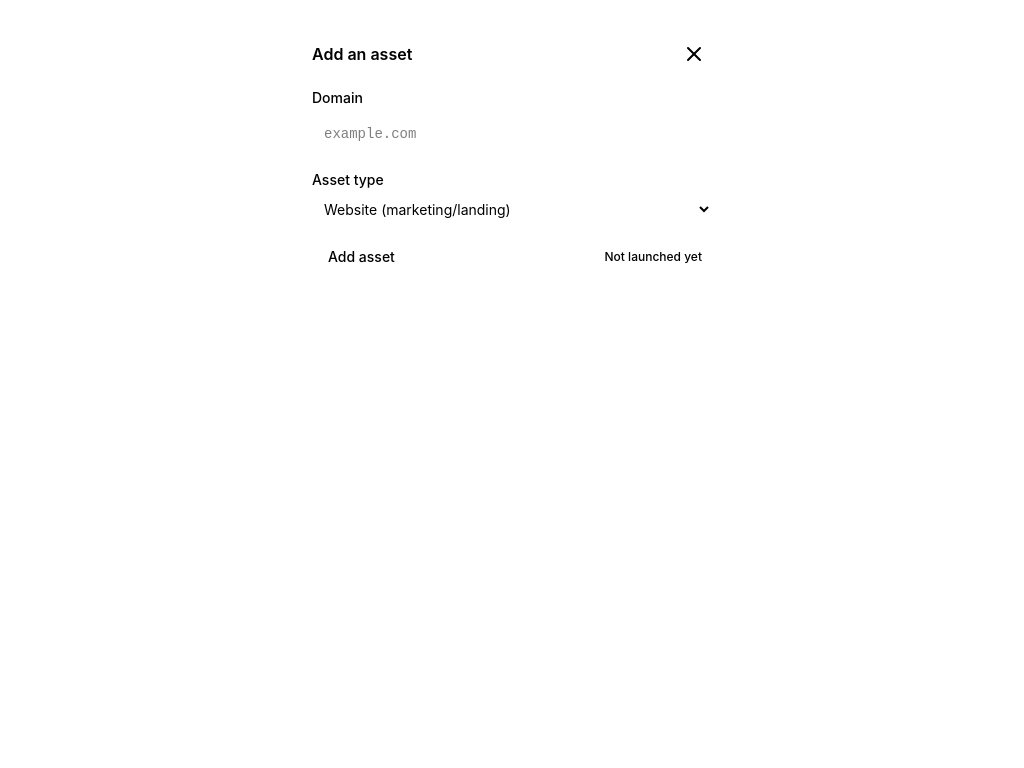
one question: the domain › keeps an Add pressed before the source catalog loads, and sends it once it has
This screenshot has width=1024, height=768.
Type "shop.example.com" into the field labelled "Domain" at (512, 134), box [312,114,712,154]
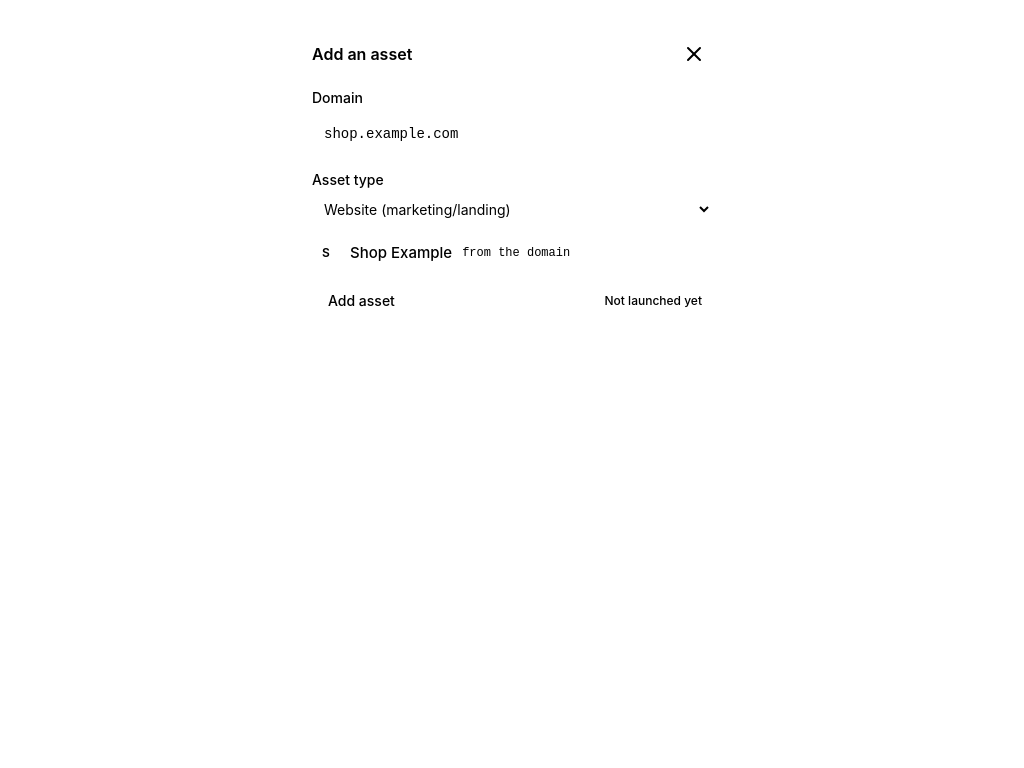
Click the button "Add asset" at (361, 301), box [312,283,411,319]
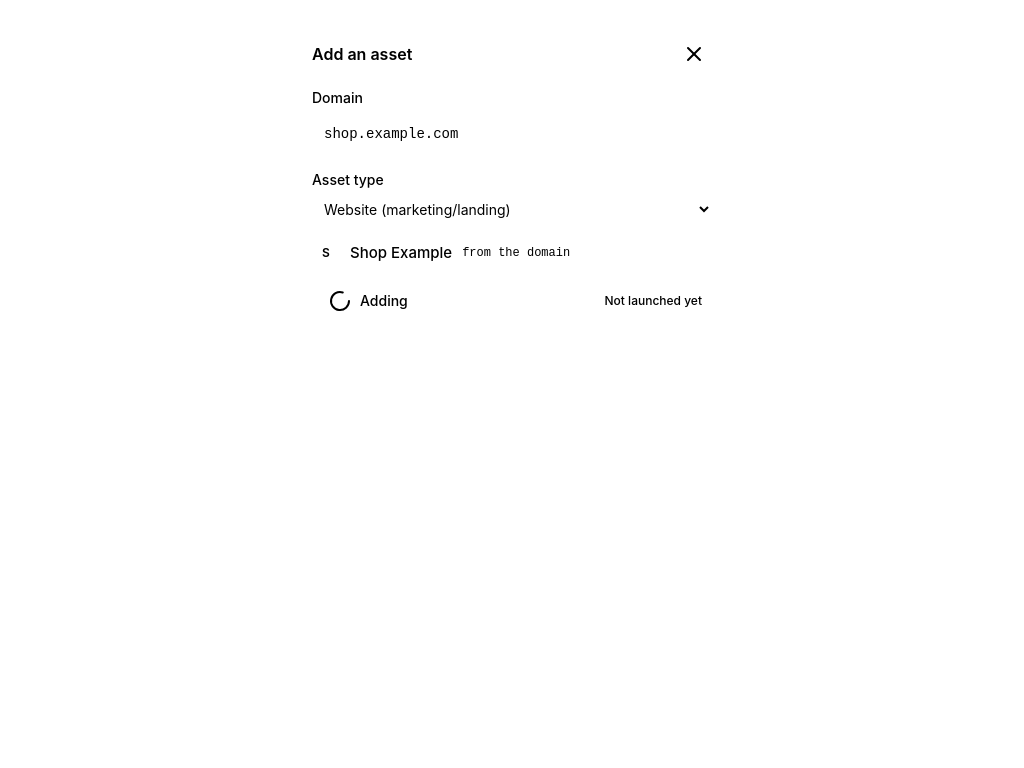
Now the button "Adding" is disabled, box [312,283,424,319]
